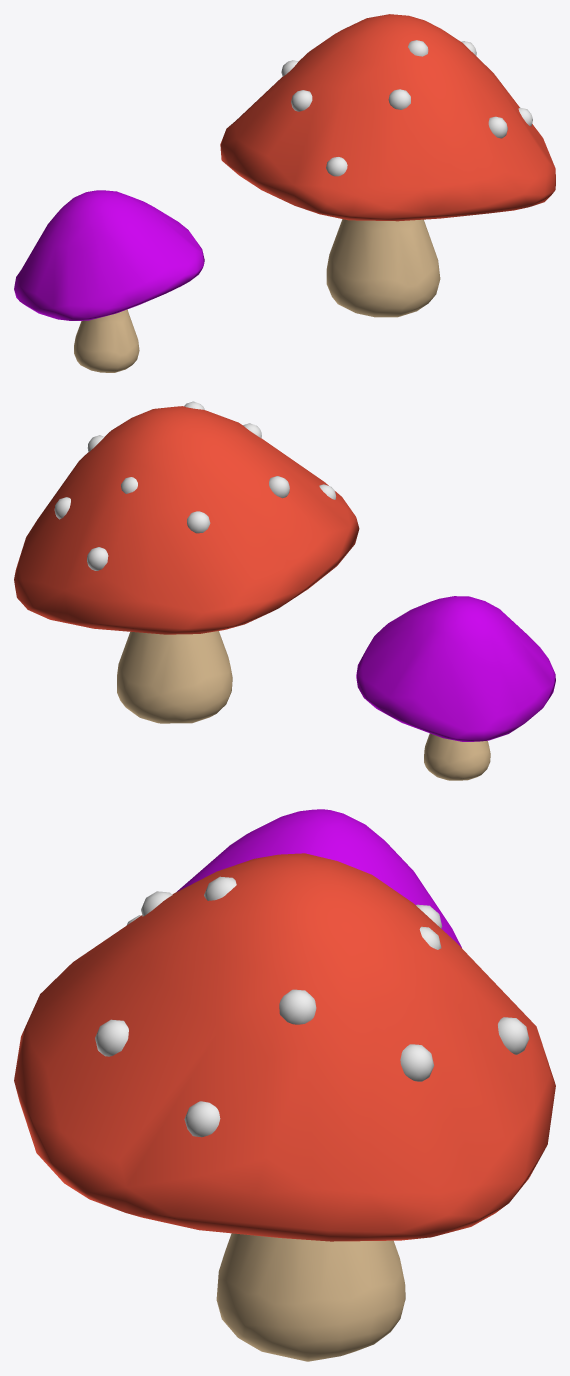
The model's file is Setas.fbx.
3 renders of one model, top to bottom at view 1: azimuth 30°, elevation 25°; view 2: azimuth 150°, elevation 25°; view 3: azimuth 270°, elevation 25°, orthographic. The views are drawn at different scales.
Visible parts, largest first — view 1: Cube.001, Cube.003, Cube, Cube.002; view 2: Cube.001, Cube.003, Cube, Cube.002; view 3: Cube.001, Cube, Cube.003, Icosphere.002, Icosphere.010, Icosphere.005, Icosphere.003, Icosphere.006.
Part boxes in pixels (bbox=[...]): Cube.001: bbox=[220, 14, 555, 221]; Cube.003: bbox=[14, 190, 204, 320]; Cube: bbox=[326, 219, 440, 317]; Cube.002: bbox=[74, 309, 139, 372]; Cube.001: bbox=[14, 406, 359, 634]; Cube.003: bbox=[356, 596, 555, 741]; Cube: bbox=[117, 631, 232, 723]; Cube.002: bbox=[424, 733, 490, 780]; Cube.001: bbox=[14, 853, 555, 1241]; Cube: bbox=[216, 1233, 405, 1361]; Cube.003: bbox=[177, 809, 461, 947]; Icosphere.002: bbox=[279, 989, 316, 1024]; Icosphere.010: bbox=[184, 1101, 220, 1137]; Icosphere.005: bbox=[400, 1044, 434, 1081]; Icosphere.003: bbox=[95, 1019, 128, 1056]; Icosphere.006: bbox=[498, 1017, 529, 1054].
Bounding box in the file's own units: 1027 × 575 × 590.
